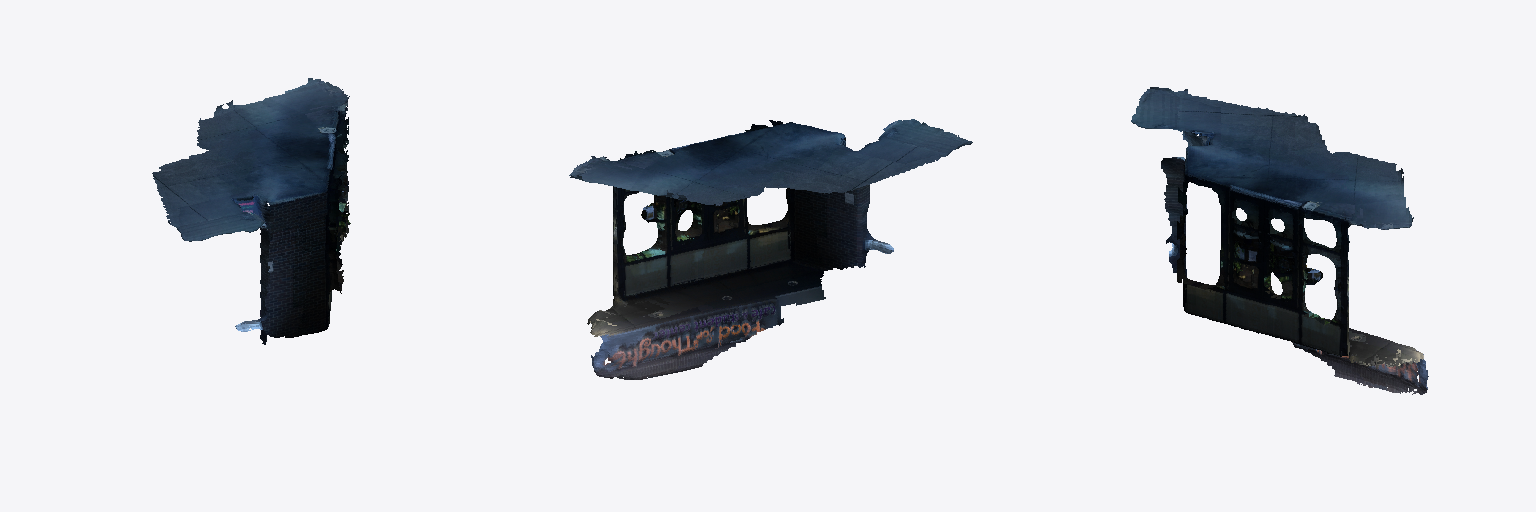
3 views of the same model, side by side, from view 1: azimuth 30°, elevation 25°; view 2: azimuth 150°, elevation 25°; view 3: azimuth 270°, elevation 25° (orthographic).
Bounding box in the file's own units: 7.15 × 5.02 × 6.66.
Materials: 1 (1 with a texture image).